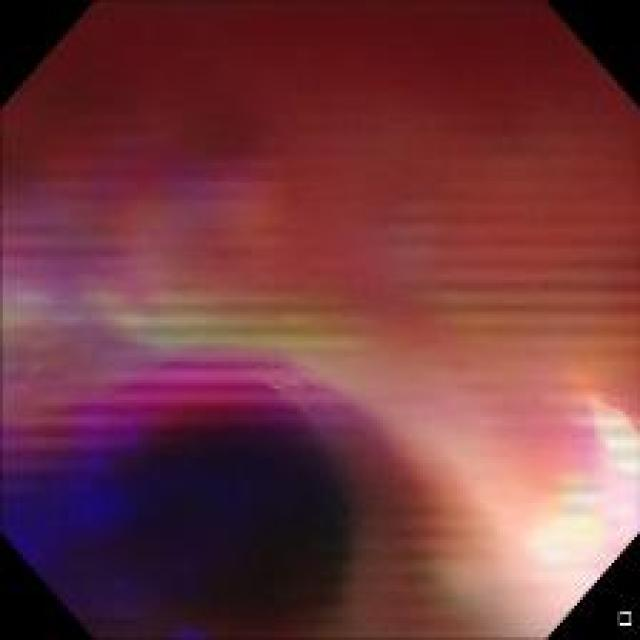color misalignment: (9, 15, 625, 635)
contrast: (25, 382, 349, 609)
